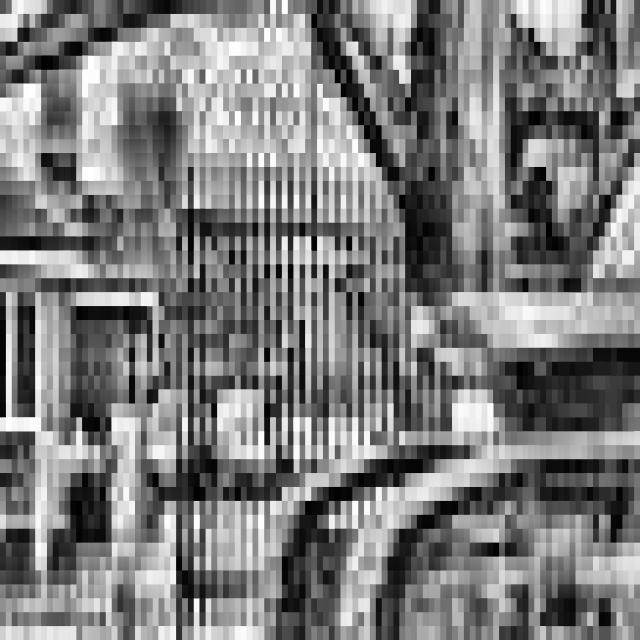excavator: (276, 0, 640, 640)
